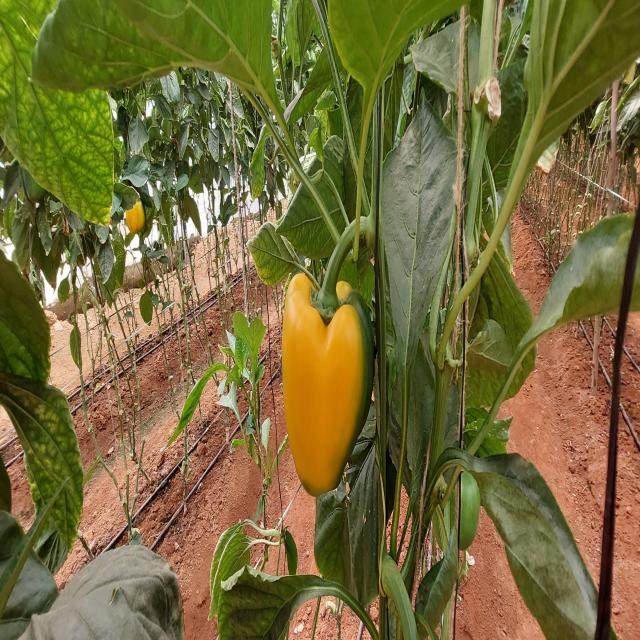Yellow-Ready-to-Harvest: (280, 270, 364, 492), (123, 205, 145, 233)
